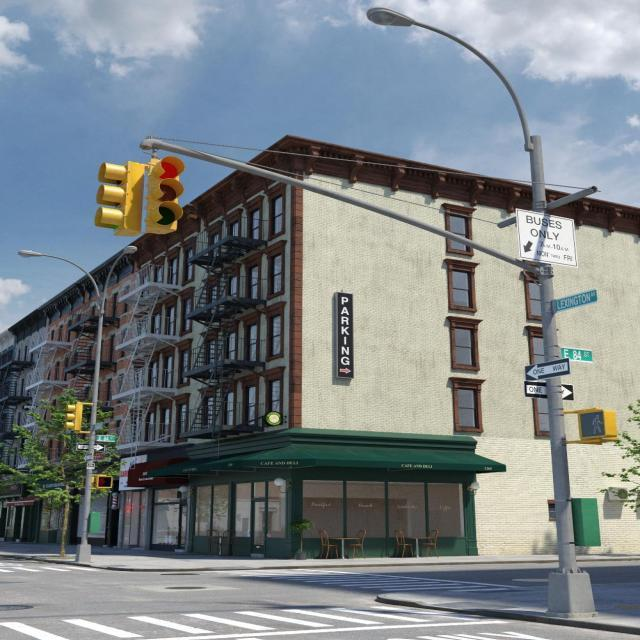off: (312, 0, 498, 80)
